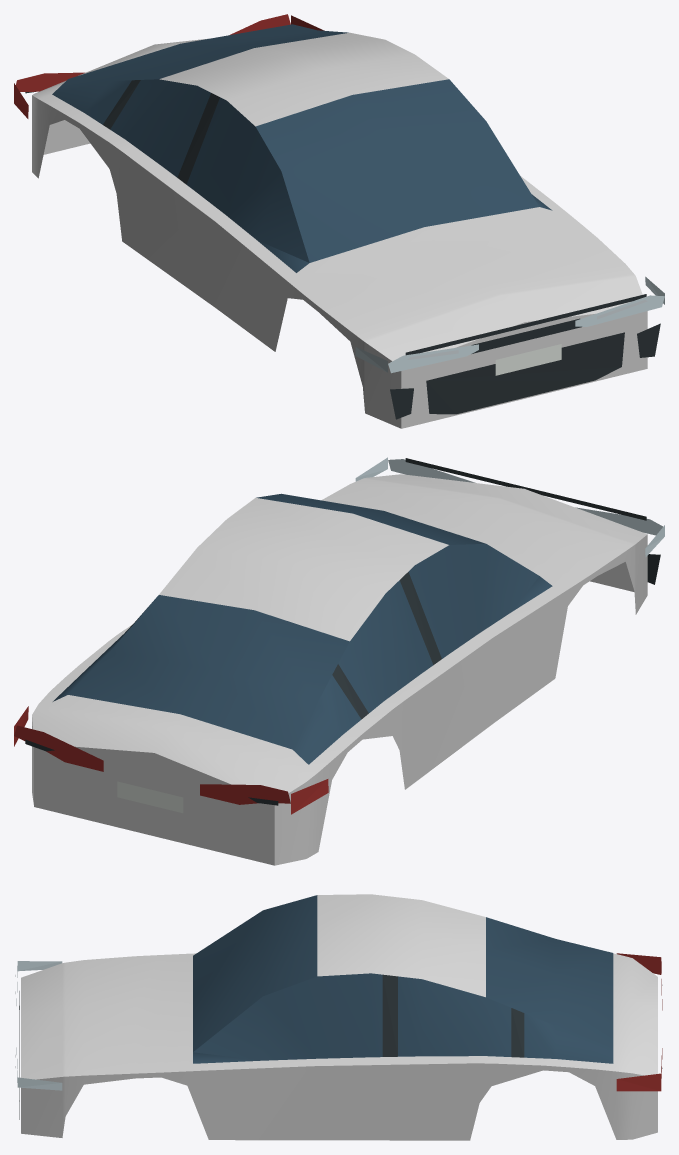
Rendered from veh_civic-lod2.glb.
The picture shows the model from 3 angles, top to bottom: view 1: azimuth 30°, elevation 25°; view 2: azimuth 150°, elevation 25°; view 3: azimuth 270°, elevation 25°; orthographic projection. The views are drawn at different scales.
Parts seen in each view (by area): view 1: paint, glass, trim, head, tail, plate; view 2: paint, glass, tail, trim, head, plate; view 3: paint, glass, trim, tail, head.
Boxes of the visible parts, bbox=[...] form: paint: bbox=[32, 32, 647, 428]; glass: bbox=[52, 24, 552, 272]; trim: bbox=[25, 80, 660, 419]; head: bbox=[355, 276, 664, 373]; tail: bbox=[14, 14, 324, 118]; plate: bbox=[495, 344, 561, 375]; paint: bbox=[32, 474, 647, 865]; glass: bbox=[53, 493, 552, 764]; tail: bbox=[14, 706, 328, 814]; trim: bbox=[25, 458, 660, 805]; head: bbox=[355, 457, 664, 556]; plate: bbox=[117, 781, 183, 813]; paint: bbox=[21, 894, 657, 1140]; glass: bbox=[193, 895, 613, 1063]; trim: bbox=[19, 974, 662, 1119]; tail: bbox=[616, 953, 662, 1091]; head: bbox=[16, 961, 62, 1090].
Size of the model in its own units: 1.39 by 0.795 by 3.02.
